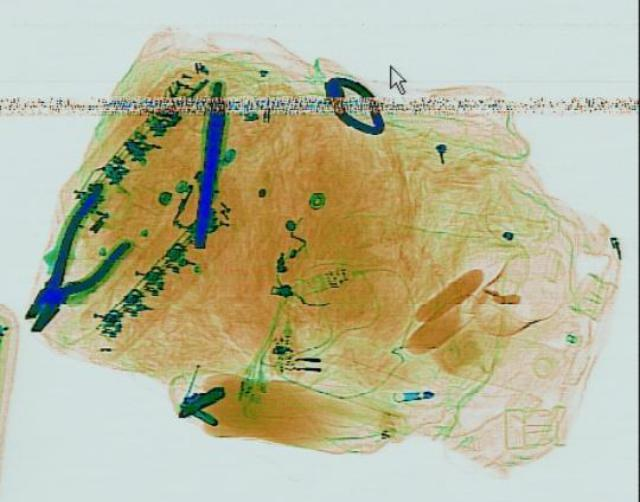Pliers: (0, 191, 145, 336)
